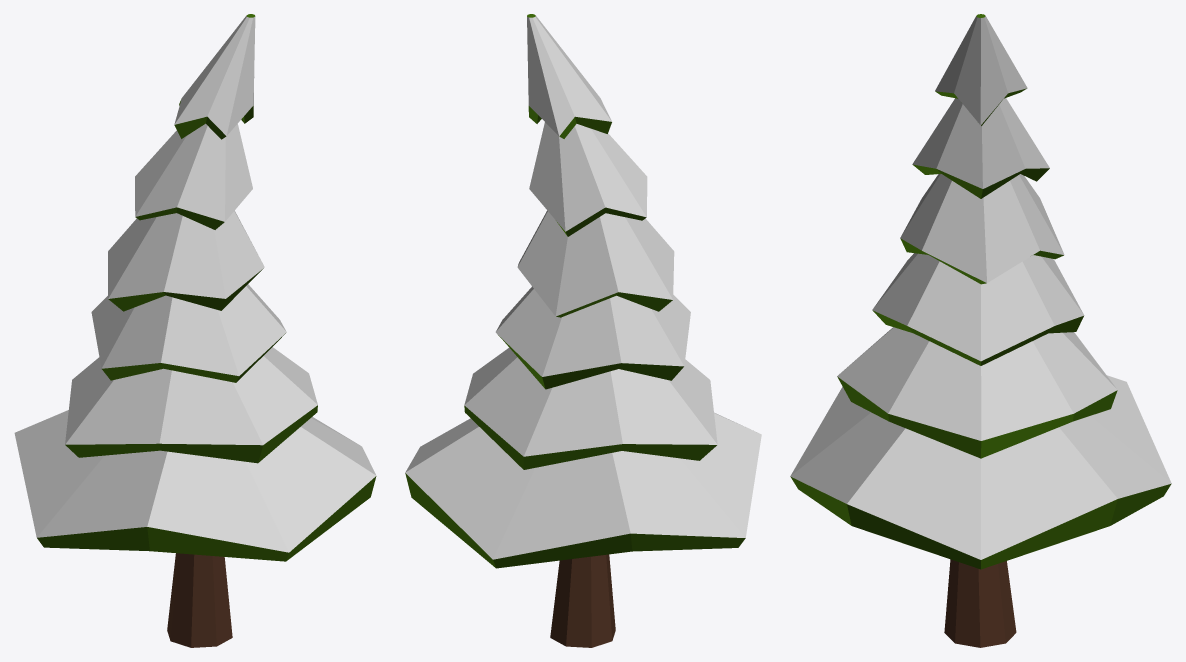
File: Tree_Snow_Pine_Curve.fbx
The picture shows the model from 3 angles, left to right: view 1: azimuth 30°, elevation 25°; view 2: azimuth 150°, elevation 25°; view 3: azimuth 270°, elevation 25°; orthographic projection. The views are drawn at different scales.
Visible parts, largest first — view 1: Tree_Snow_Pine_Curve; view 2: Tree_Snow_Pine_Curve; view 3: Tree_Snow_Pine_Curve.
Boxes of the visible parts, <box> form: Tree_Snow_Pine_Curve: <box>14,14,376,647</box>; Tree_Snow_Pine_Curve: <box>405,14,761,647</box>; Tree_Snow_Pine_Curve: <box>790,14,1171,647</box>.
Bounding box in the file's own units: 9.53 × 16.94 × 9.1.
